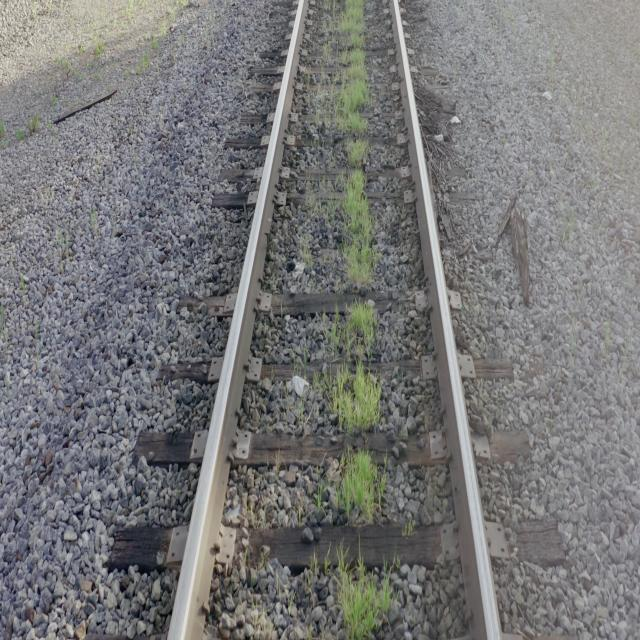Plant: (335, 0, 376, 287), (339, 558, 391, 640), (332, 358, 381, 436), (339, 451, 385, 522), (345, 302, 376, 353)
